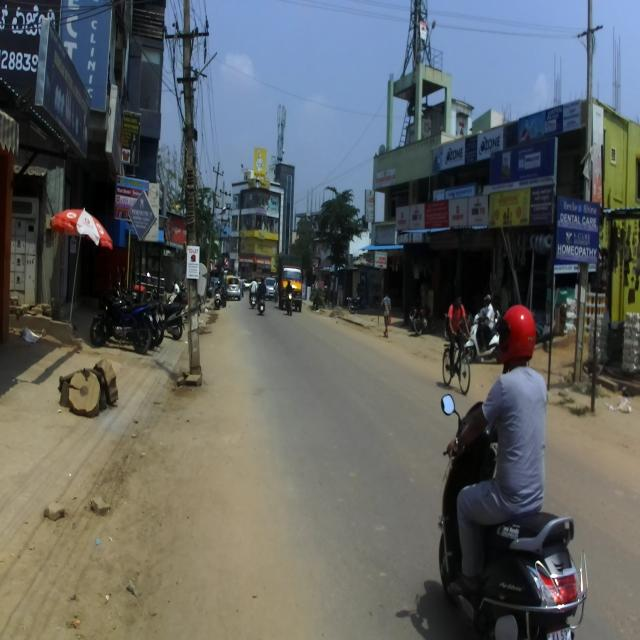electric pole ahead at: (166, 1, 214, 384)
motorcycle ahead at: (439, 305, 596, 640), (91, 285, 168, 357)
